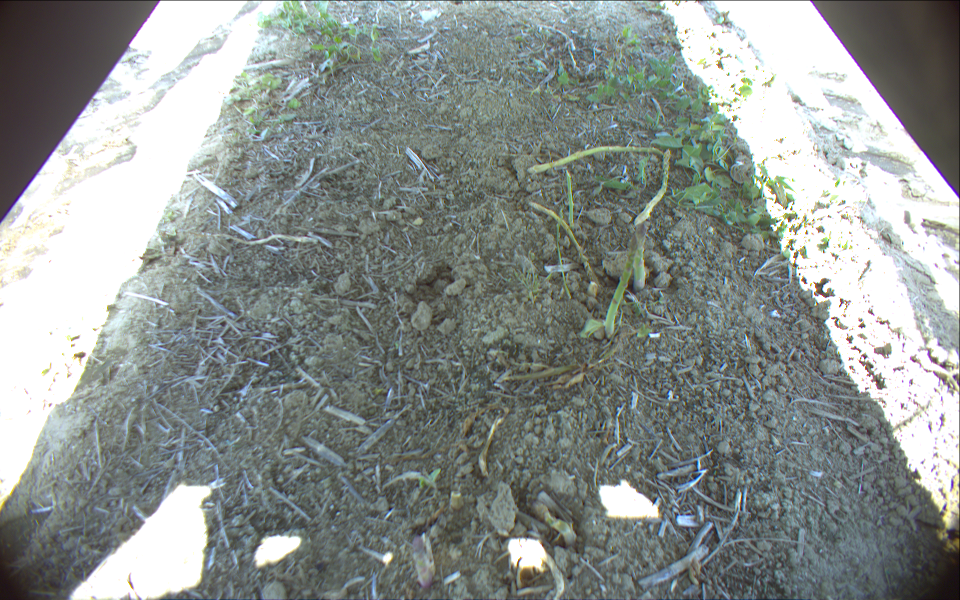aspa: (528, 202, 596, 293), (529, 145, 665, 174), (604, 235, 636, 340), (635, 148, 672, 224), (633, 219, 647, 293), (565, 171, 575, 229)
